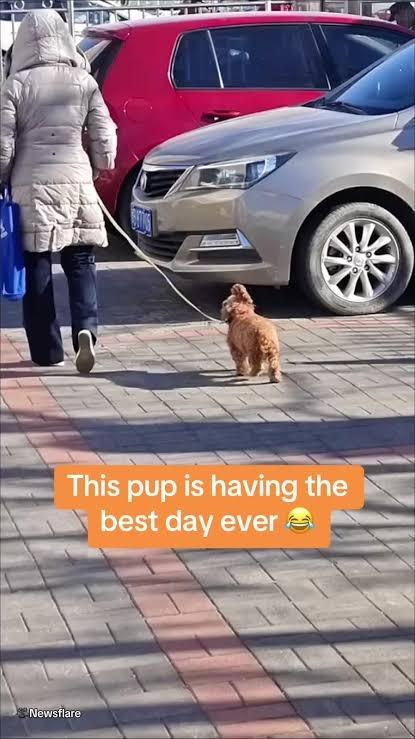non-dog: (0, 8, 117, 373)
puppy-dog: (220, 282, 283, 384)
